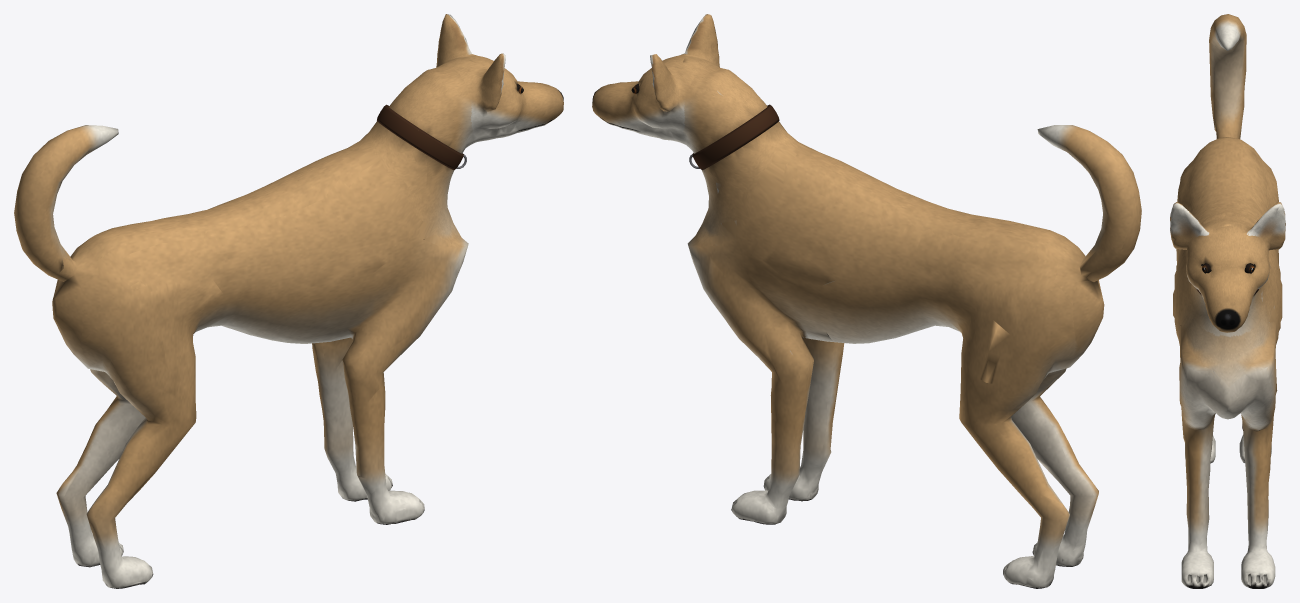
Rendered from dog_alert.glb.
3 views of the same model, side by side, from view 1: azimuth 30°, elevation 25°; view 2: azimuth 150°, elevation 25°; view 3: azimuth 270°, elevation 25° (orthographic). The views are drawn at different scales.
Visible parts, largest first — view 1: dog_alert_mesh; view 2: dog_alert_mesh; view 3: dog_alert_mesh.
Part boxes in pixels (x1,y1,x2,y2): dog_alert_mesh: (14,14,563,588); dog_alert_mesh: (592,14,1141,588); dog_alert_mesh: (1170,14,1285,588).
Bounding box in the file's own units: 0.879 × 0.6984 × 0.1726.
Materials: 1 (1 with a texture image).
